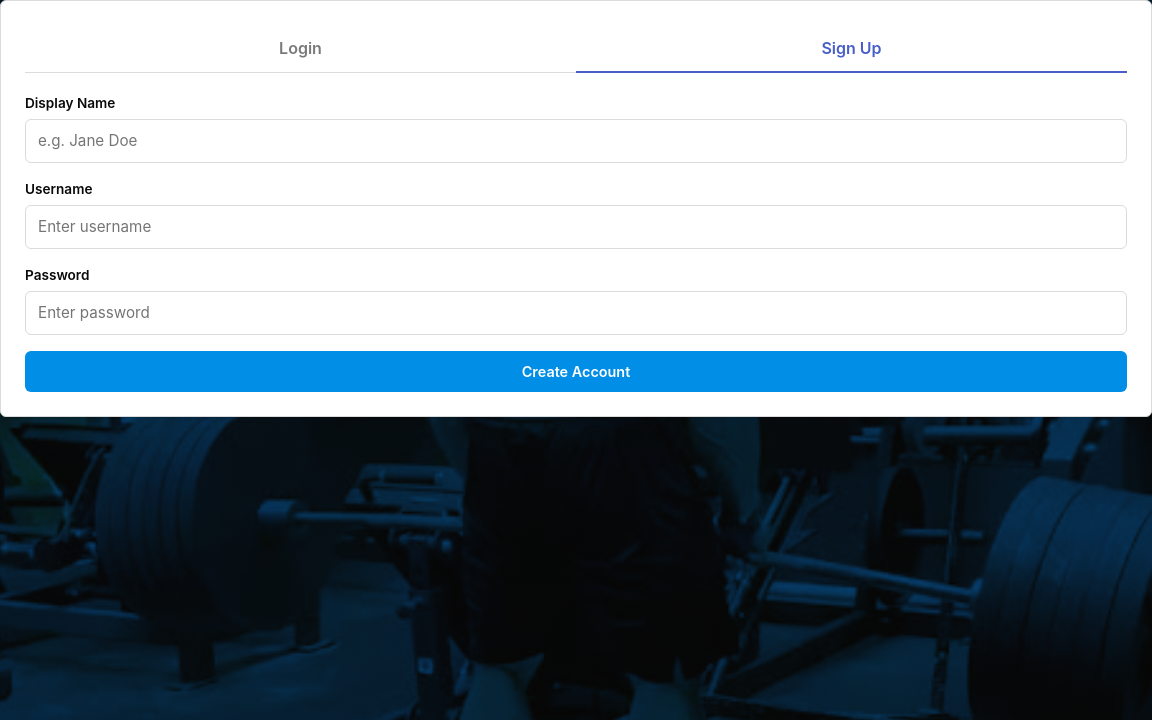
AuthCard › shows the server message when the invite is rejected
This screenshot has width=1152, height=720.
Type "Jane Doe" into the field labelled "Display Name".
click(576, 141); type("Jane Doe")  # box [25, 119, 1127, 163]
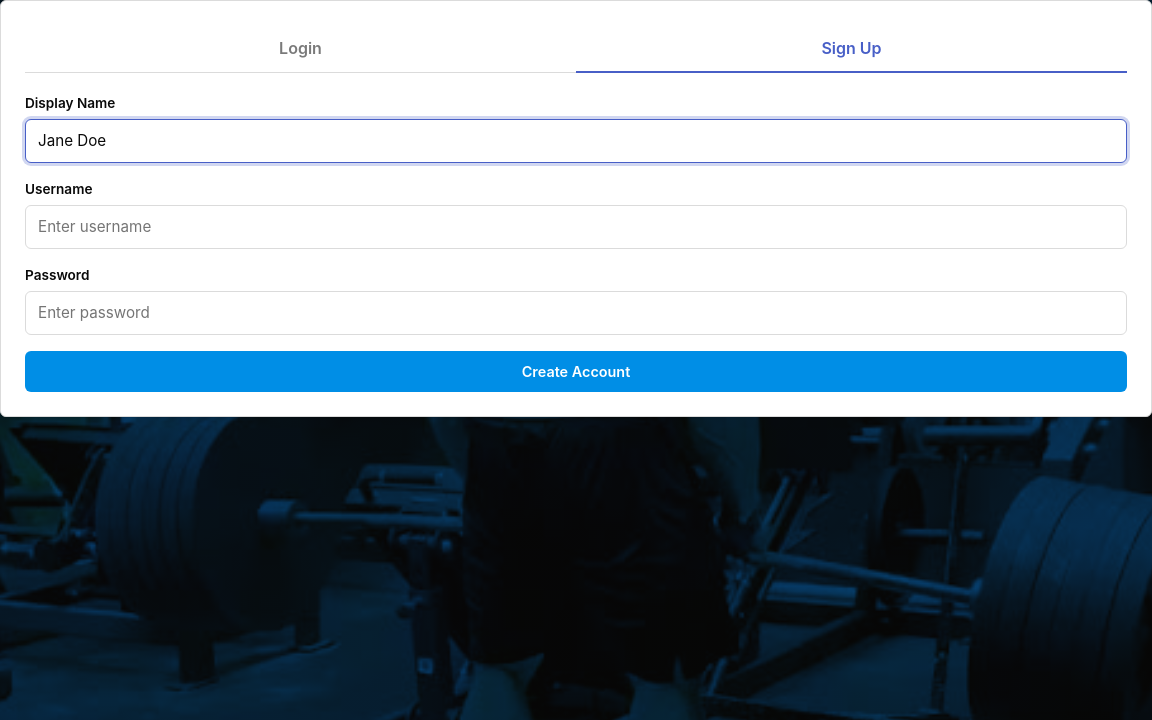
Type "jane" into the field labelled "Username".
click(576, 227); type("jane")  # box [25, 205, 1127, 249]
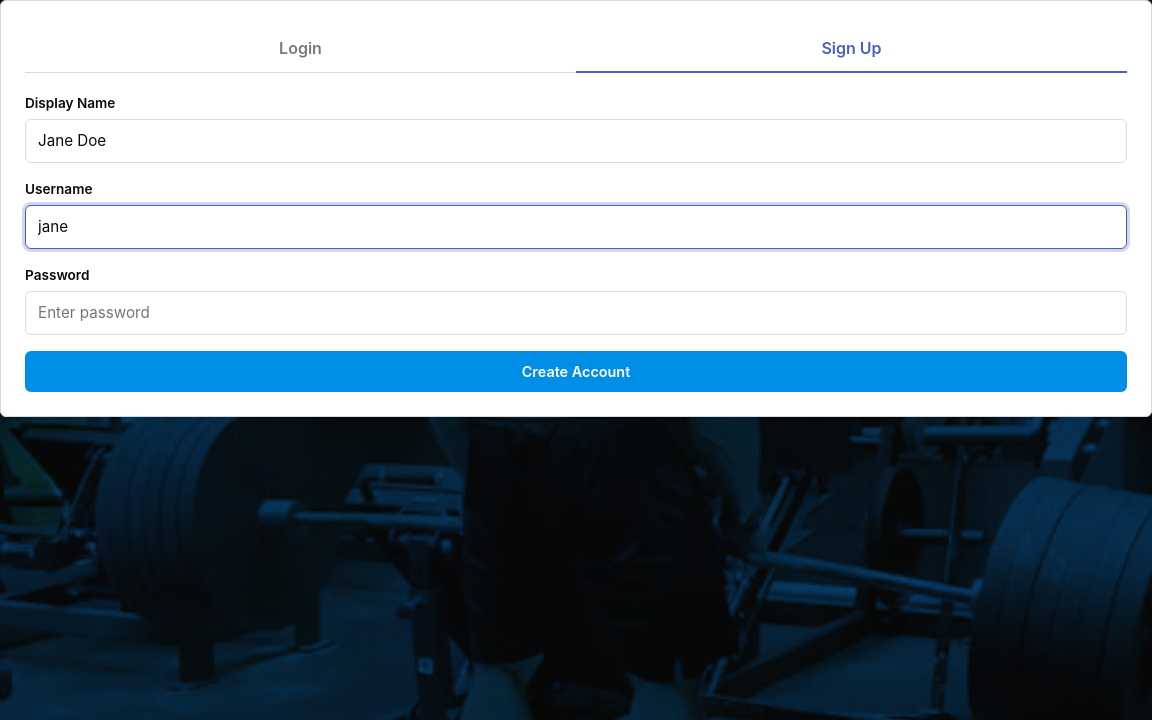
Type "secret123" into the password field labelled "Password".
click(576, 313); type("secret123")  # box [25, 291, 1127, 335]
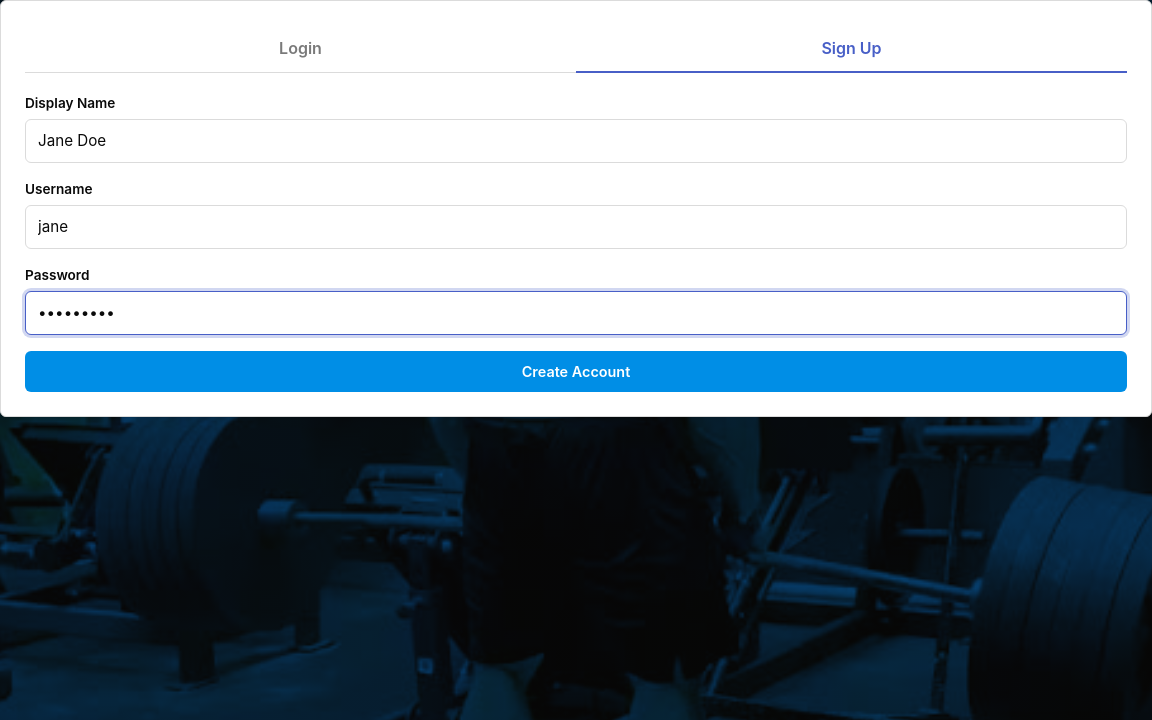
Click the button "Create Account".
click(576, 372)  # box [25, 351, 1127, 392]
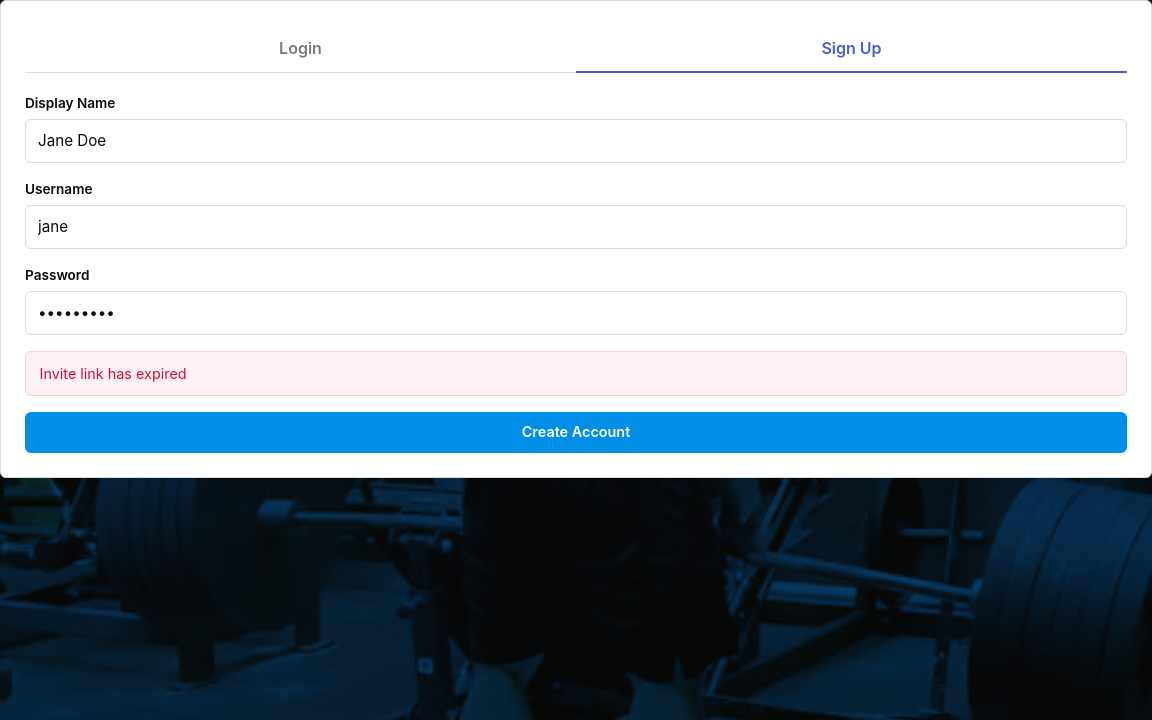
Expected: the text "Invite link has expired" is shown, [25, 351, 1127, 396]
